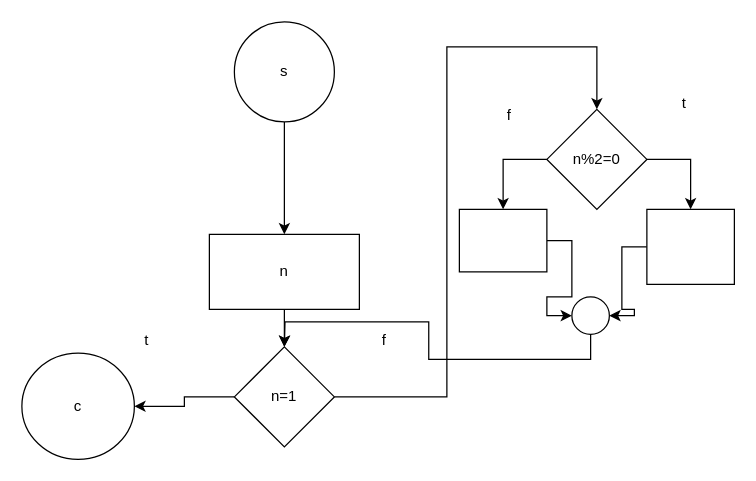
This 756x481 diagram has some shape labels left out. Each missing label, with the centre of its shape:
"n=3n+1" belongs at [502,240].
"n=n//2" belongs at [690,246].
